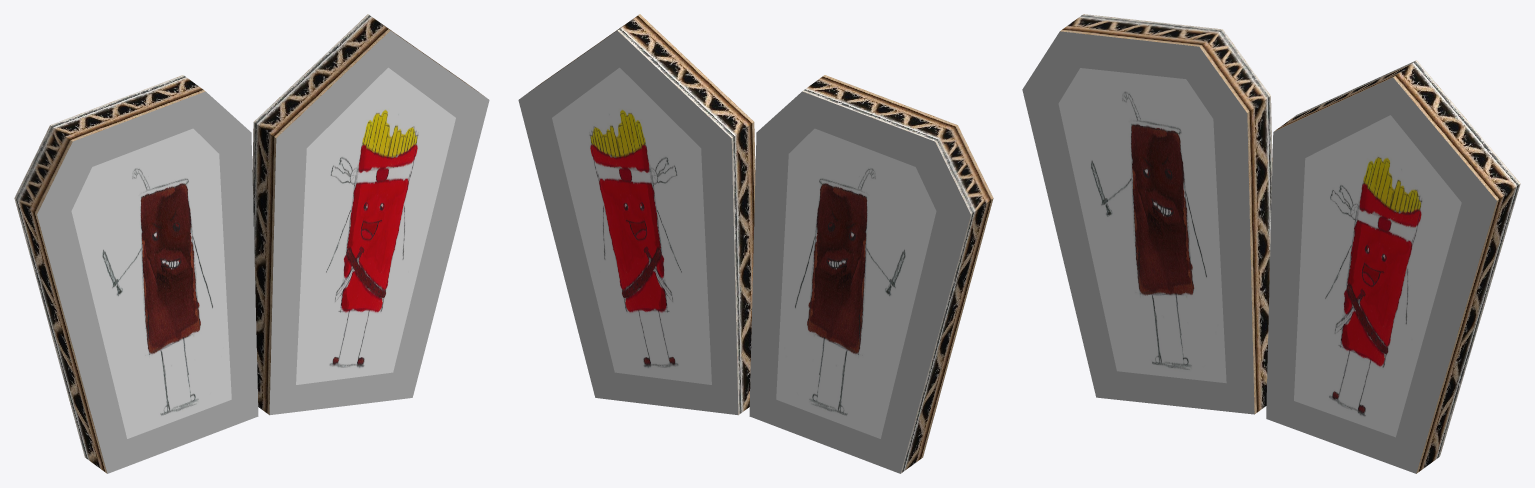
File: RanskisJaKola.fbx
The picture shows the model from 3 angles, left to right: view 1: azimuth 30°, elevation 25°; view 2: azimuth 150°, elevation 25°; view 3: azimuth 330°, elevation 25°; orthographic projection. The views are drawn at different scales.
Visible parts, largest first — view 1: RanskisJaKola; view 2: RanskisJaKola; view 3: RanskisJaKola.
Part boxes in pixels (left/top/right/bottom): RanskisJaKola: left=14, top=14, right=489, bottom=473; RanskisJaKola: left=518, top=14, right=993, bottom=473; RanskisJaKola: left=1022, top=14, right=1520, bottom=473.
Size of the model in its own units: 230 by 182 by 19.96.
